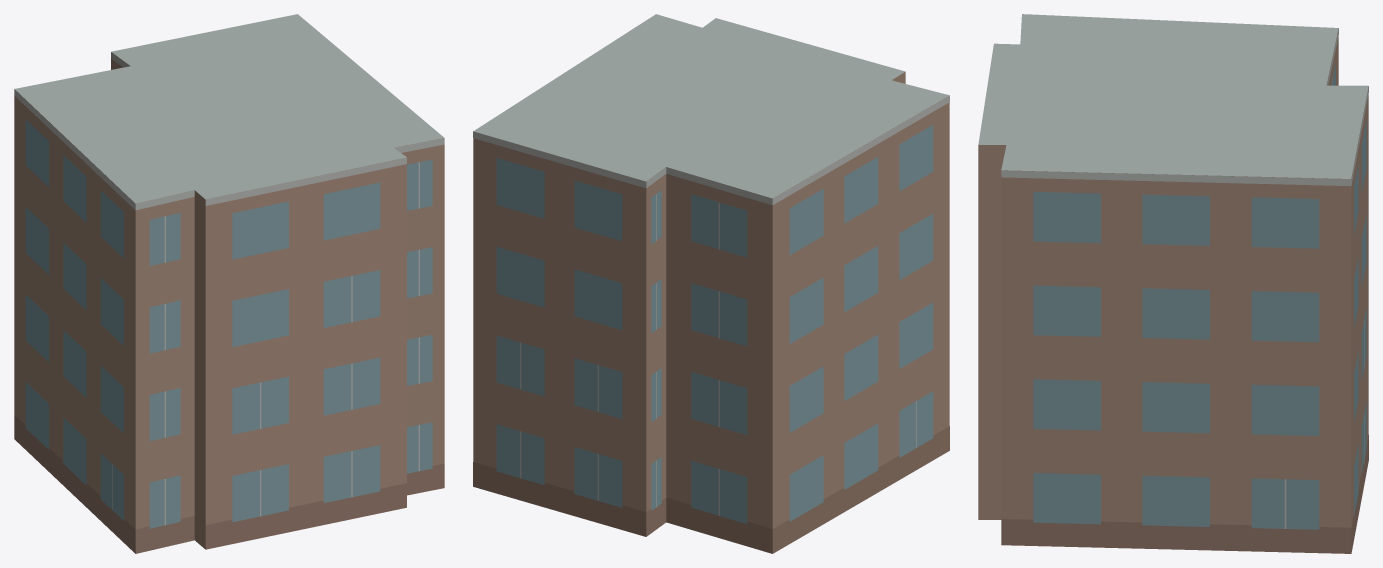
File: survey-upis-32762588.glb
3 renders of one model, left to right at view 1: azimuth 30°, elevation 25°; view 2: azimuth 150°, elevation 25°; view 3: azimuth 270°, elevation 25°, orthographic. The views are drawn at different scales.
Parts seen in each view (by area): view 1: survey-upis-32762588.tmp; view 2: survey-upis-32762588.tmp; view 3: survey-upis-32762588.tmp.
Part boxes in pixels (box(x1,y1,x2,y2)): survey-upis-32762588.tmp: box(14, 14, 444, 553); survey-upis-32762588.tmp: box(473, 14, 949, 553); survey-upis-32762588.tmp: box(978, 14, 1368, 553).
Size of the model in its own units: 12.1 by 12.8 by 12.09.
